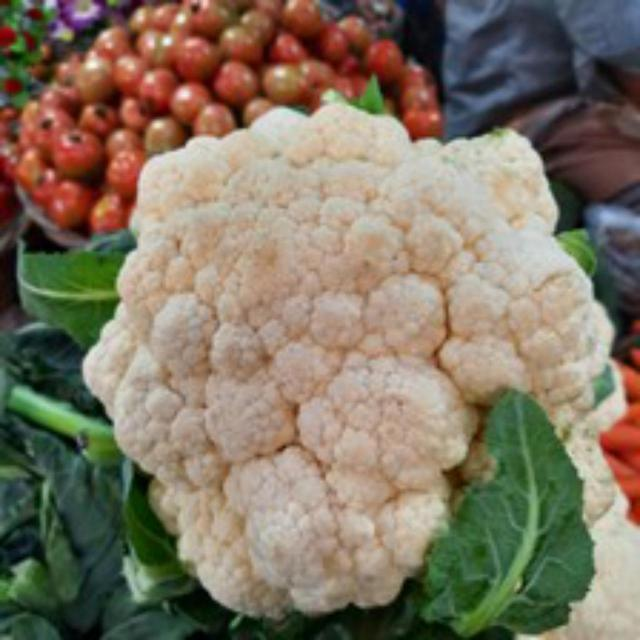cauliflower: (71, 107, 621, 630)
